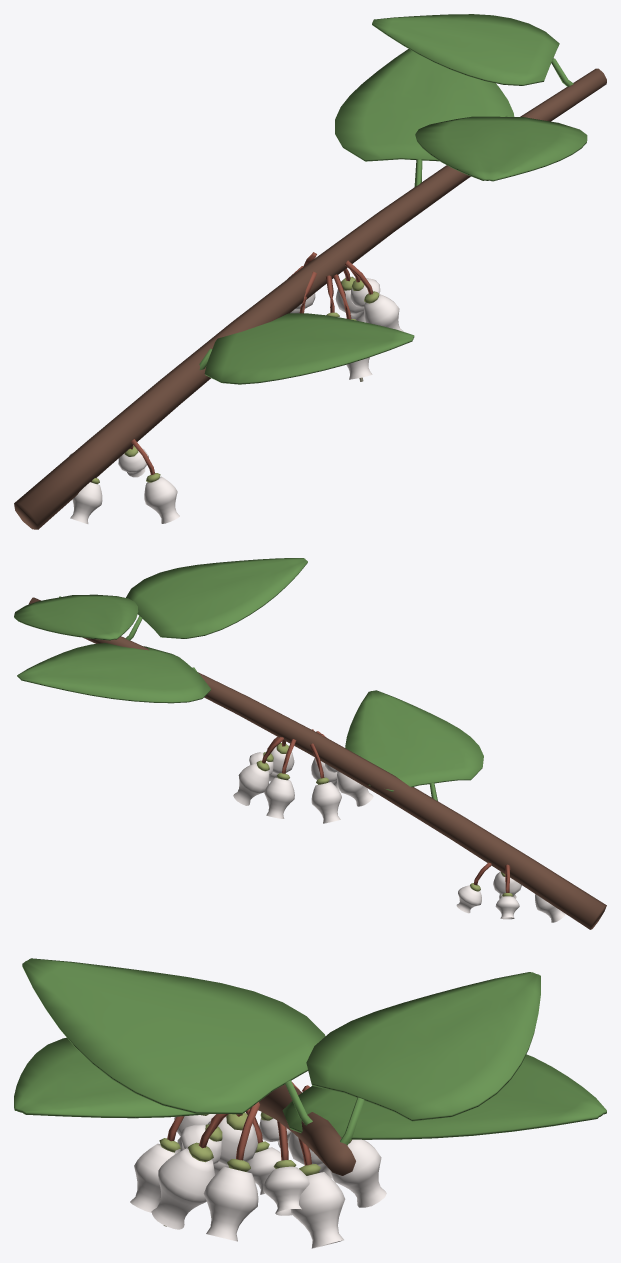
File: flower-vaccinium.glb
3 views of the same model, one above another, from view 1: azimuth 30°, elevation 25°; view 2: azimuth 150°, elevation 25°; view 3: azimuth 270°, elevation 25° (orthographic). The views are drawn at different scales.
Visible parts, largest first — view 1: leaves, twig, cluster_flowers; view 2: leaves, twig, cluster_flowers; view 3: leaves, cluster_flowers, hero_bell, twig, hero_parts.
Boxes of the visible parts, x1=… form: leaves: x1=199, y1=14, x2=587, y2=384; twig: x1=14, y1=68, x2=606, y2=529; cluster_flowers: x1=69, y1=252, x2=403, y2=523; leaves: x1=14, y1=558, x2=483, y2=800; twig: x1=28, y1=597, x2=606, y2=929; cluster_flowers: x1=233, y1=731, x2=565, y2=922; leaves: x1=14, y1=958, x2=606, y2=1145; cluster_flowers: x1=130, y1=1081, x2=386, y2=1248; hero_bell: x1=151, y1=1148, x2=214, y2=1229; twig: x1=250, y1=1084, x2=355, y2=1175; hero_parts: x1=163, y1=1114, x2=228, y2=1226.
Bounding box in the file's own units: 12.17 × 5.98 × 6.66.
